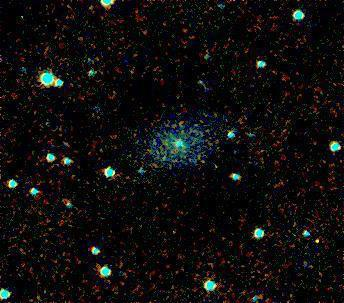star: (301, 228, 331, 258)
